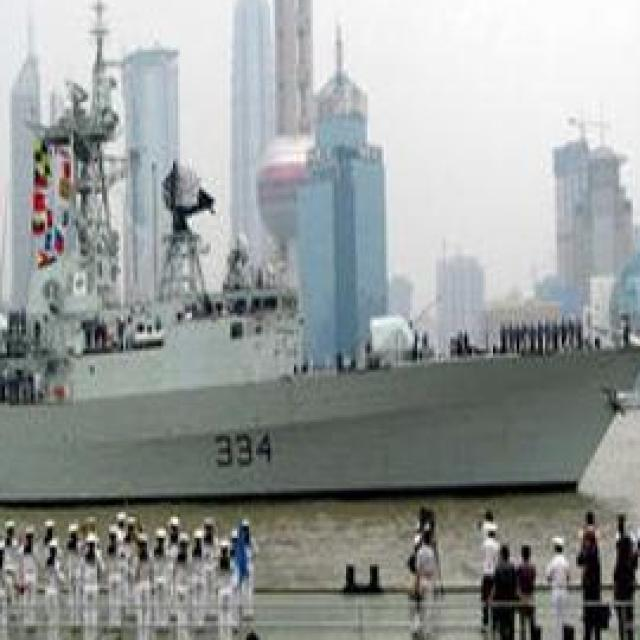navalvessels: (0, 47, 640, 491)
